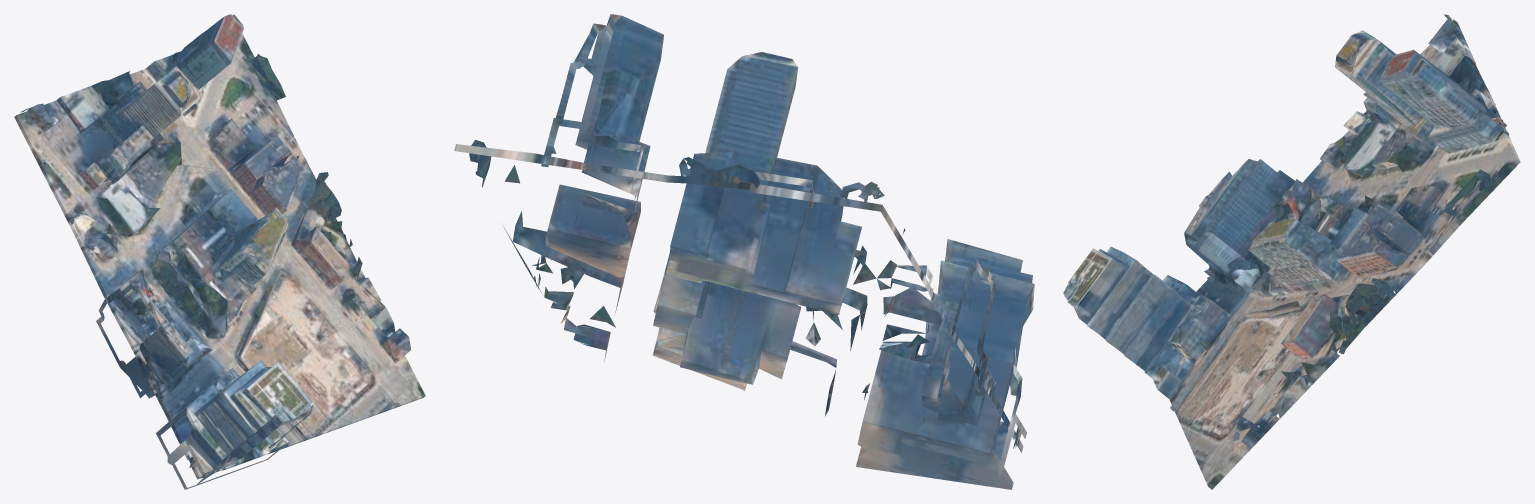
The model's file is AJVsH2zirZ8Kvjx4o4z6ESsycQeTmoUUFameSIsPAAd2ahWNv2fEJhCS1jhU_mxL0dmeDfQaHd0hGMsHcqqKZyh4NplhvI-xwoDy14VhAGF8Z8G7d2eOxrI4ngwALLdlVtJEbkTKOrk4aJBhQOyA-CaSRQ208L76KA.glb.
3 renders of one model, left to right at view 1: azimuth 30°, elevation 25°; view 2: azimuth 150°, elevation 25°; view 3: azimuth 270°, elevation 25°, orthographic. The views are drawn at different scales.
Size of the model in its own units: 257 by 293 by 304.
1 material, 1 textured.
